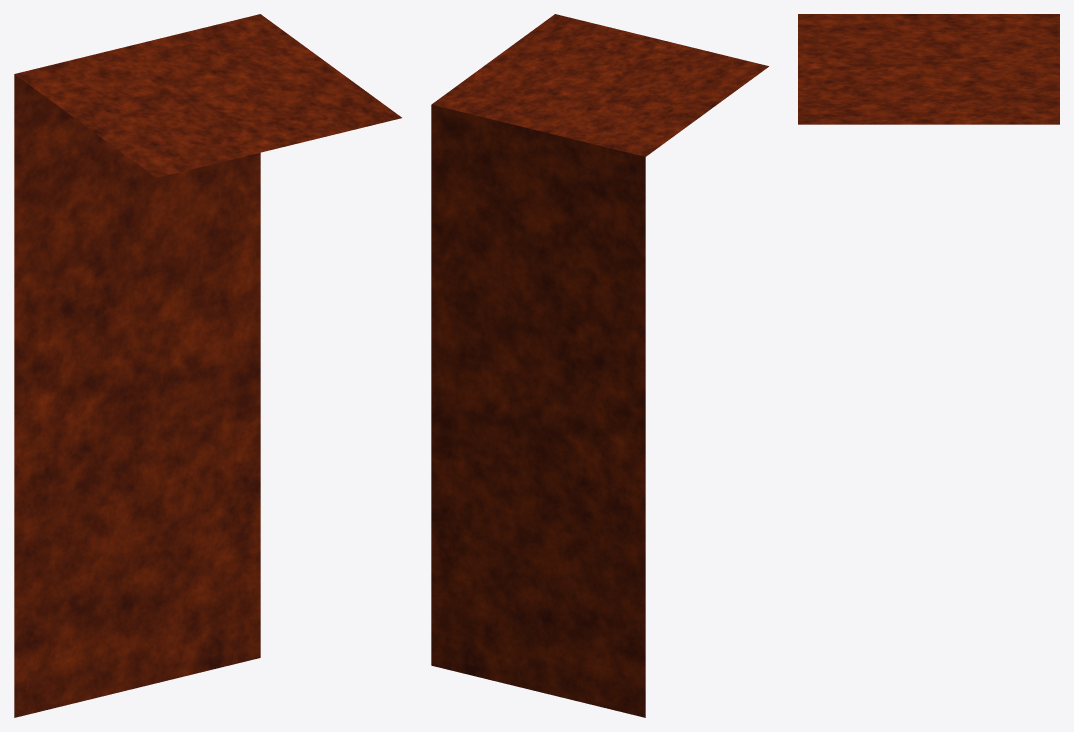
File: MountainEdge1.glb
The picture shows the model from 3 angles, left to right: view 1: azimuth 30°, elevation 25°; view 2: azimuth 150°, elevation 25°; view 3: azimuth 270°, elevation 25°; orthographic projection. The views are drawn at different scales.
Visible parts, largest first — view 1: ground; view 2: ground; view 3: ground.
Boxes of the visible parts, bbox=[...] form: ground: bbox=[14, 14, 401, 717]; ground: bbox=[431, 14, 768, 717]; ground: bbox=[798, 14, 1059, 124].
Size of the model in its own units: 2 by 5 by 2.
Materials: 1 (1 with a texture image).
